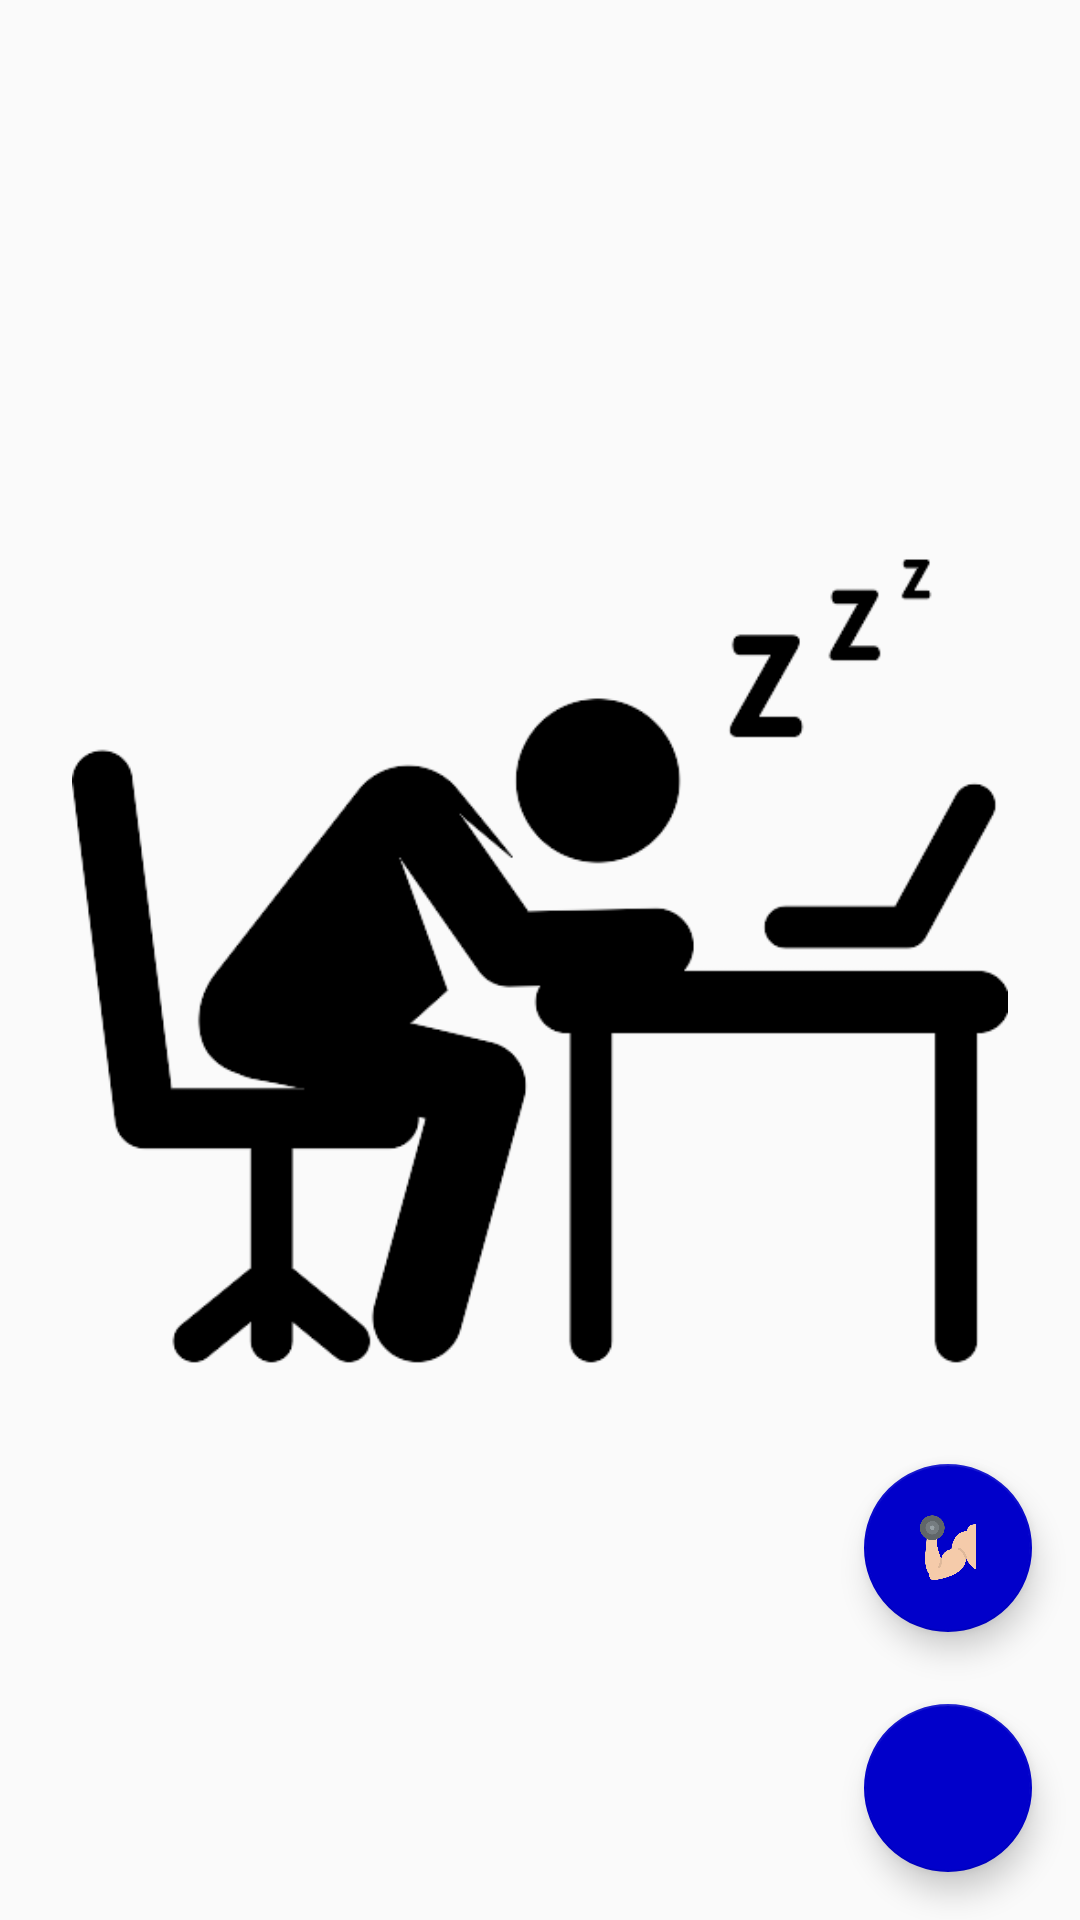

Icons on this 1080px x 1920px Android screen, each with its box as (x1, y1, x2, y2):
muscle colors: (864, 1464, 1032, 1632)
